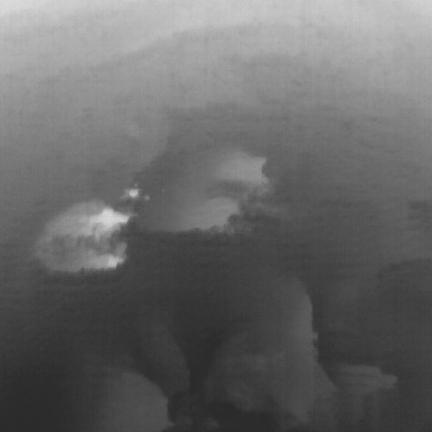flukeprints: (88, 208, 130, 229), (126, 185, 140, 198)
